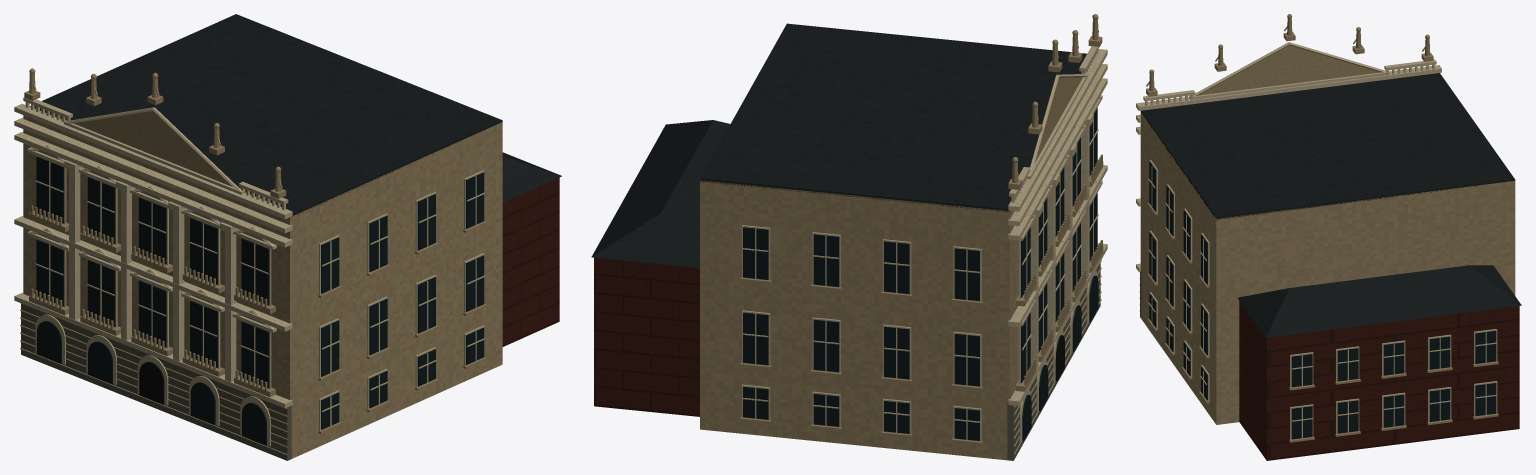
The picture shows the model from 3 angles, left to right: view 1: azimuth 30°, elevation 25°; view 2: azimuth 150°, elevation 25°; view 3: azimuth 270°, elevation 25°; orthographic projection. The views are drawn at different scales.
Parts seen in each view (by area): view 1: erasmiaans-gymnasium-0, erasmiaans-gymnasium-1, erasmiaans-gymnasium-3, erasmiaans-gymnasium-4, erasmiaans-gymnasium-6, erasmiaans-gymnasium-2, erasmiaans-gymnasium-5; view 2: erasmiaans-gymnasium-0, erasmiaans-gymnasium-1, erasmiaans-gymnasium-3, erasmiaans-gymnasium-4, erasmiaans-gymnasium-6, erasmiaans-gymnasium-2; view 3: erasmiaans-gymnasium-1, erasmiaans-gymnasium-0, erasmiaans-gymnasium-6, erasmiaans-gymnasium-4, erasmiaans-gymnasium-3.
Boxes of the visible parts, x1=… form: erasmiaans-gymnasium-0: x1=20, y1=68, x2=502, y2=458; erasmiaans-gymnasium-1: x1=30, y1=14, x2=561, y2=218; erasmiaans-gymnasium-3: x1=14, y1=97, x2=484, y2=446; erasmiaans-gymnasium-4: x1=36, y1=156, x2=484, y2=445; erasmiaans-gymnasium-6: x1=502, y1=177, x2=559, y2=346; erasmiaans-gymnasium-2: x1=21, y1=303, x2=291, y2=460; erasmiaans-gymnasium-5: x1=139, y1=362, x2=164, y2=404; erasmiaans-gymnasium-0: x1=700, y1=14, x2=1103, y2=460; erasmiaans-gymnasium-1: x1=591, y1=23, x2=1086, y2=268; erasmiaans-gymnasium-3: x1=742, y1=46, x2=1107, y2=442; erasmiaans-gymnasium-4: x1=743, y1=108, x2=1098, y2=441; erasmiaans-gymnasium-6: x1=594, y1=257, x2=699, y2=416; erasmiaans-gymnasium-2: x1=1007, y1=263, x2=1100, y2=460; erasmiaans-gymnasium-1: x1=1140, y1=73, x2=1521, y2=337; erasmiaans-gymnasium-0: x1=1139, y1=14, x2=1515, y2=442; erasmiaans-gymnasium-6: x1=1239, y1=301, x2=1519, y2=460; erasmiaans-gymnasium-4: x1=1149, y1=161, x2=1496, y2=439; erasmiaans-gymnasium-3: x1=1136, y1=42, x2=1497, y2=439.
Bounding box in the file's own units: 36.55 × 26.17 × 32.18.
Materials: 7 (7 with a texture image).
